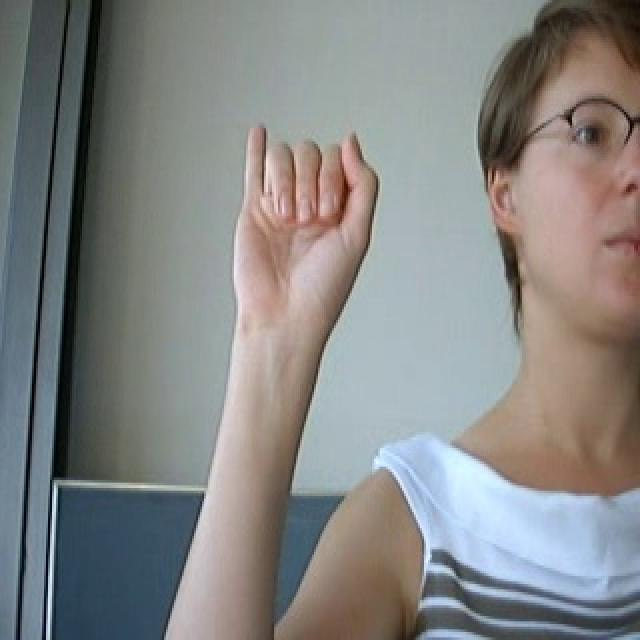I: (215, 99, 395, 380)
